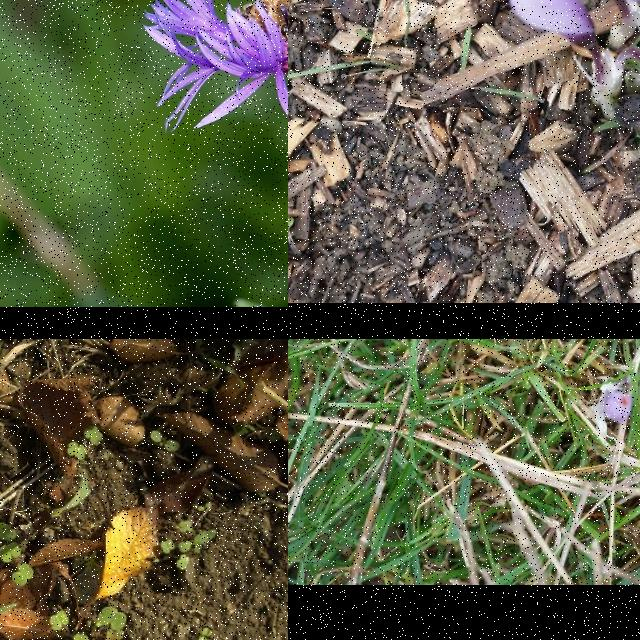flower: (494, 0, 595, 48), (603, 390, 635, 424)
